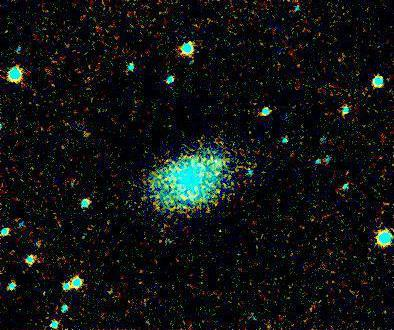star: (70, 121, 100, 151)
